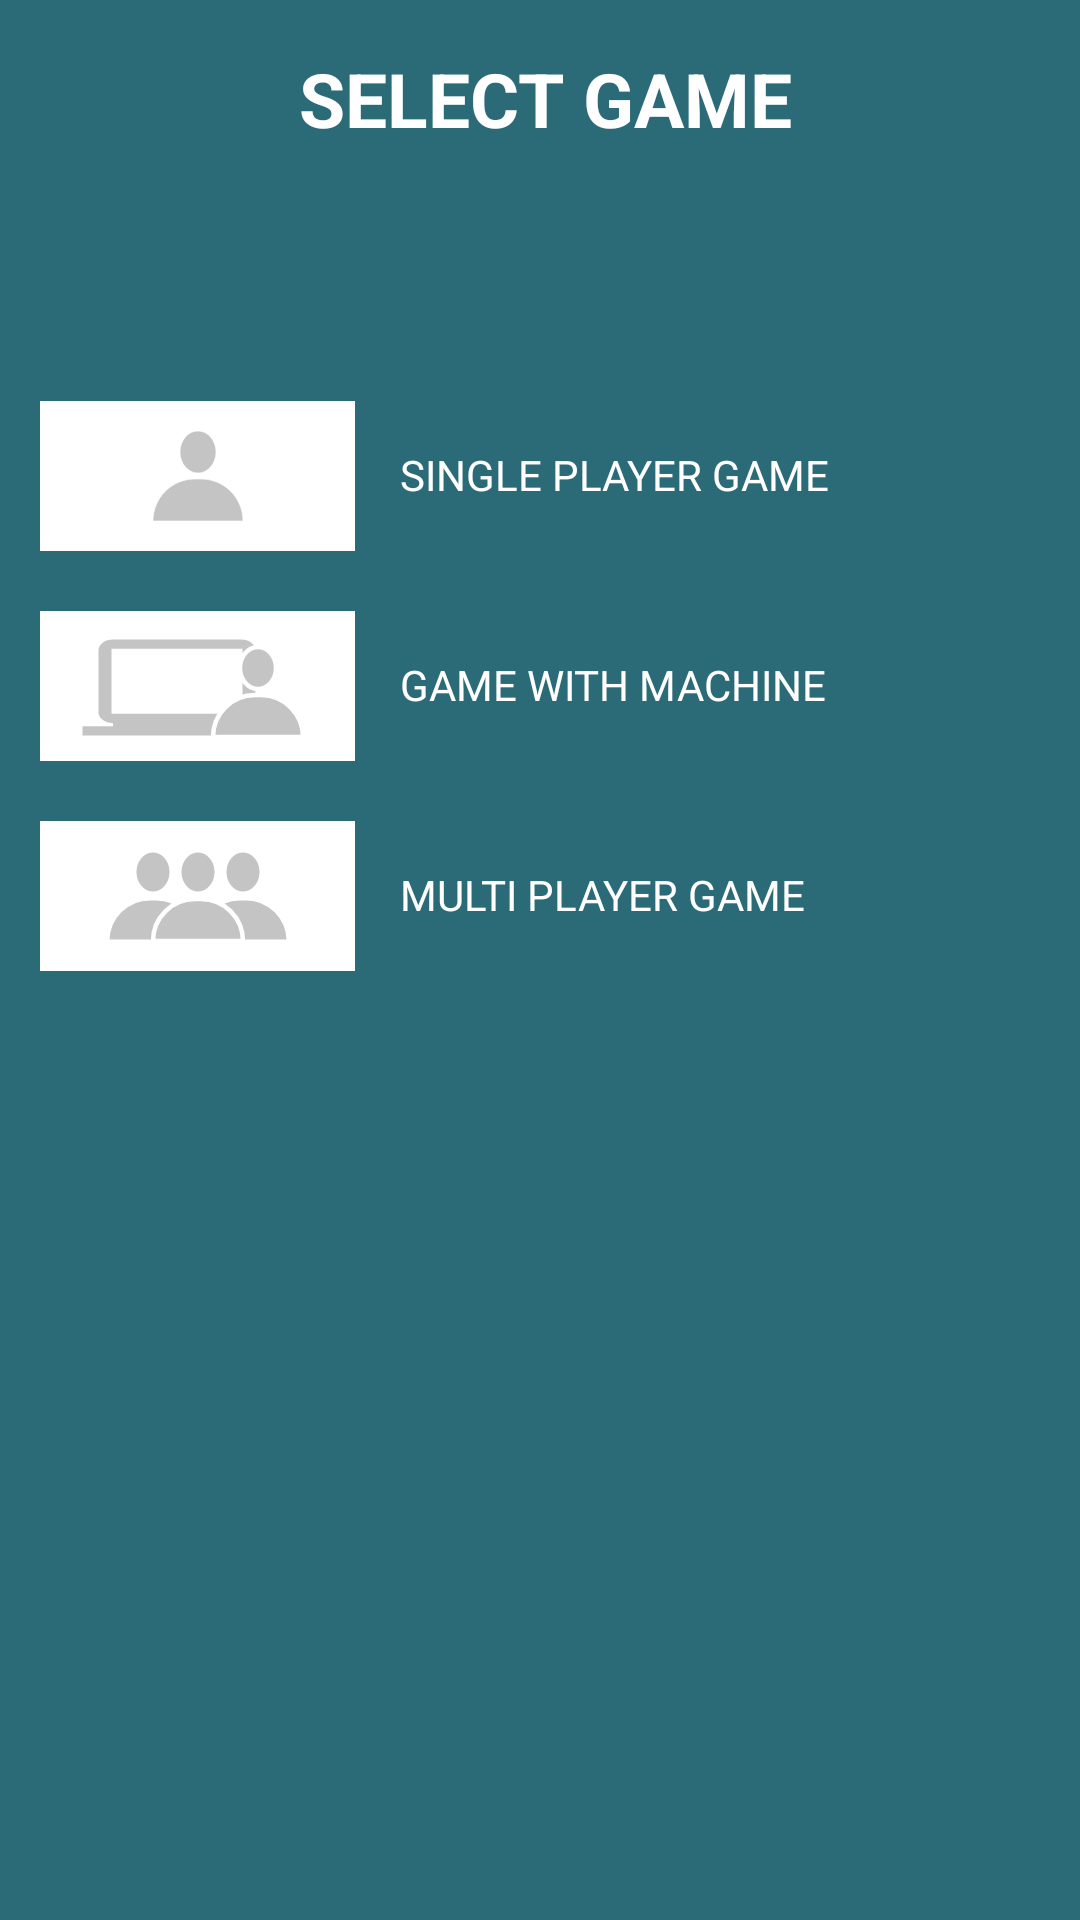

Locate icon controls on the screen. Image size 1080×1920, boxes as (x1, y1, x2, y2).
Play With Machine Button: (40, 611, 355, 761)
